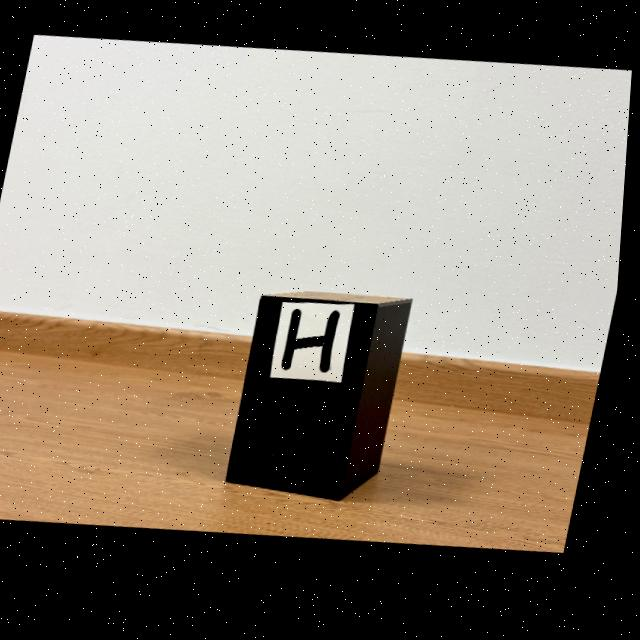H: (287, 315, 345, 380)
